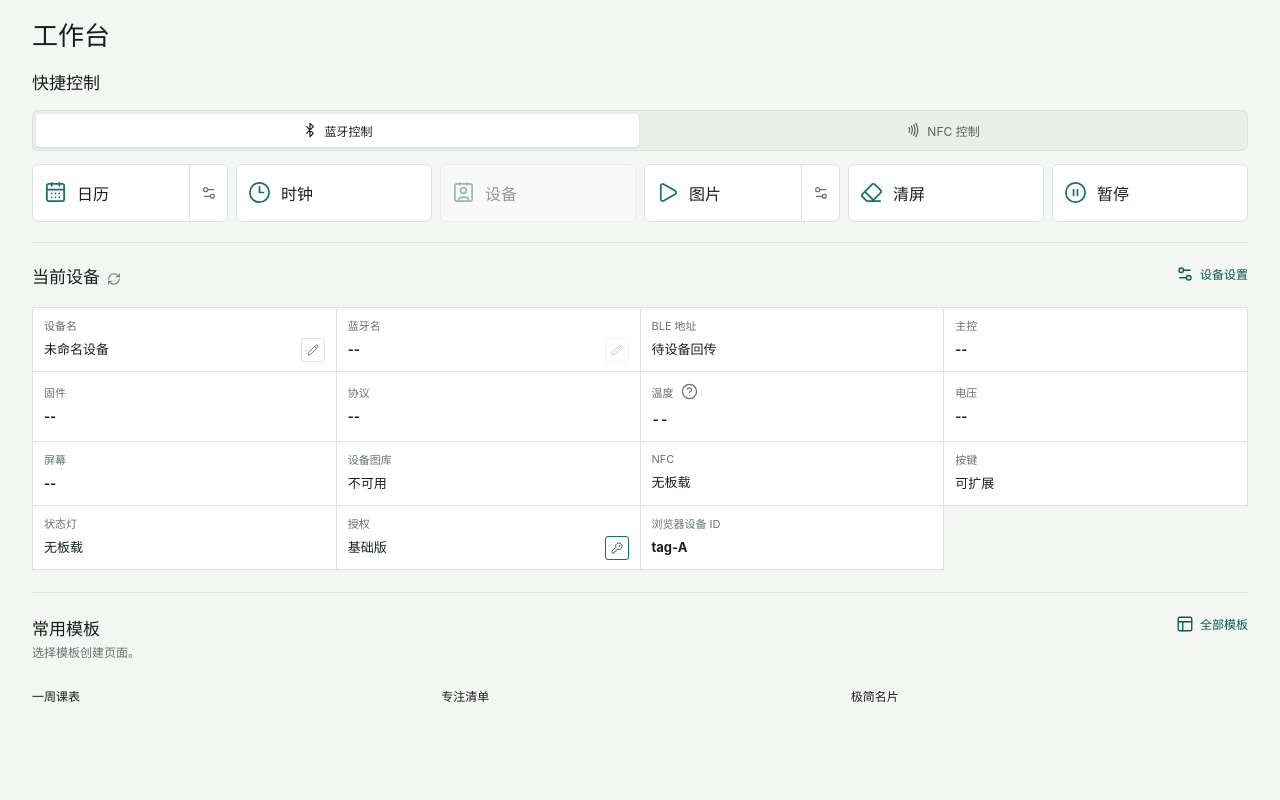
Scenario: permits an explicit retry after partial read failure
Click the button named "重新读取设备配置": (114, 277) left=104, top=265, right=124, bottom=289
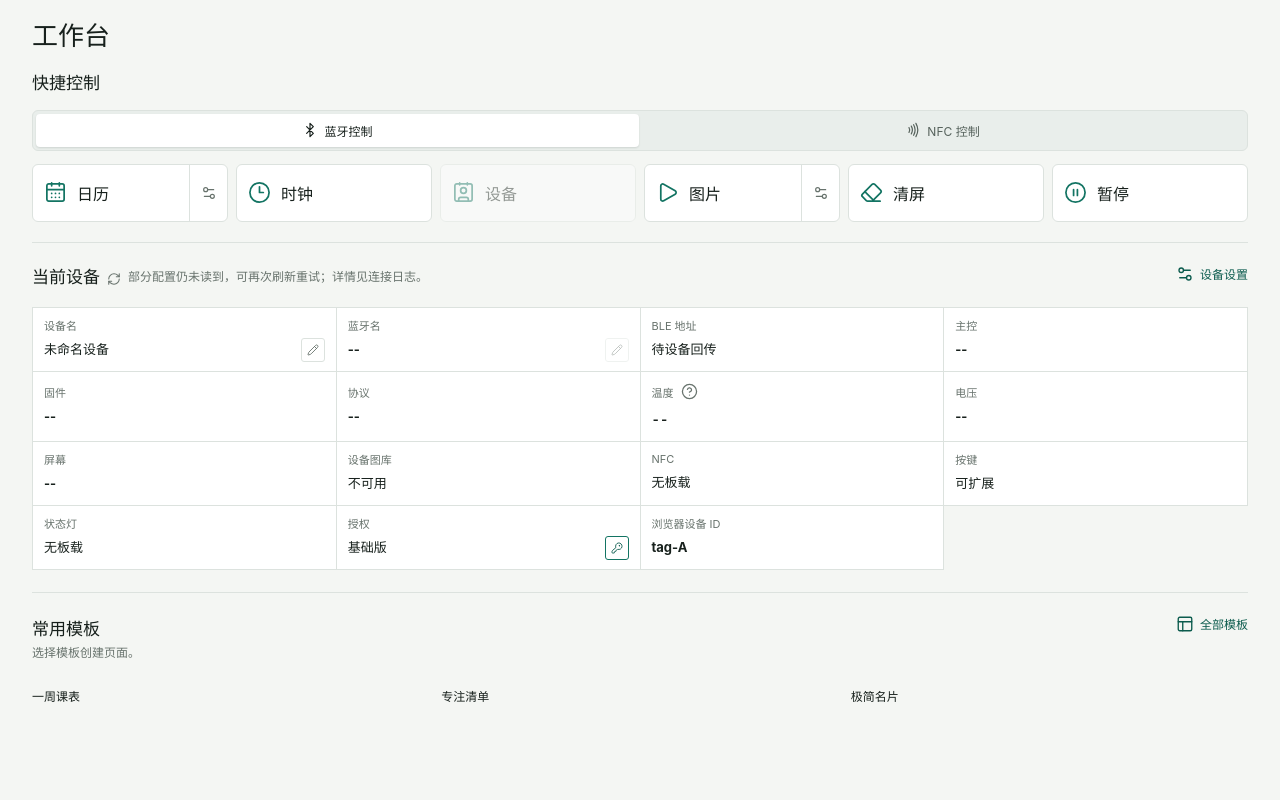
expect the message "部分配置仍未读到，可再次刷新重试；详情见连接日志。" is shown: met, box left=128, top=269, right=428, bottom=284
Click the button named "重新读取设备配置": (114, 277) left=104, top=265, right=124, bottom=289
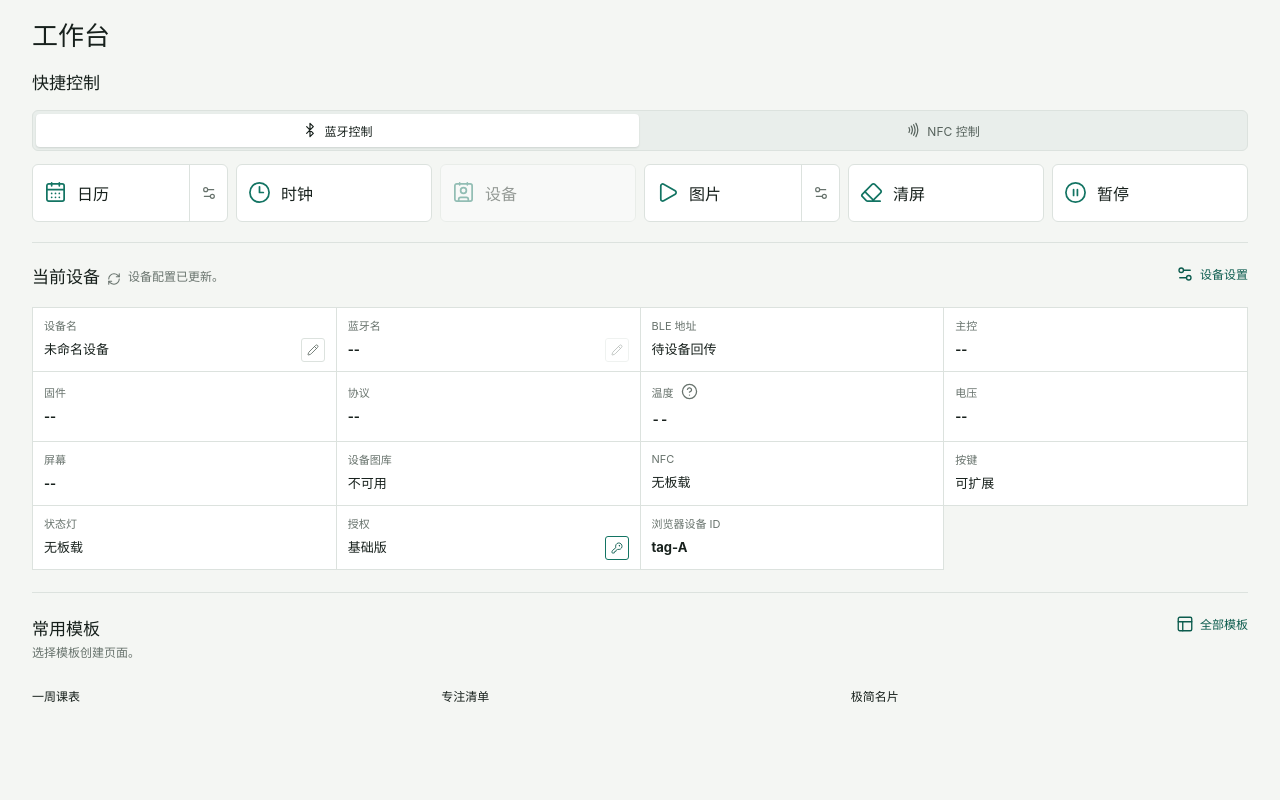
expect the message "设备配置已更新。" is shown: met, box left=128, top=269, right=224, bottom=284
